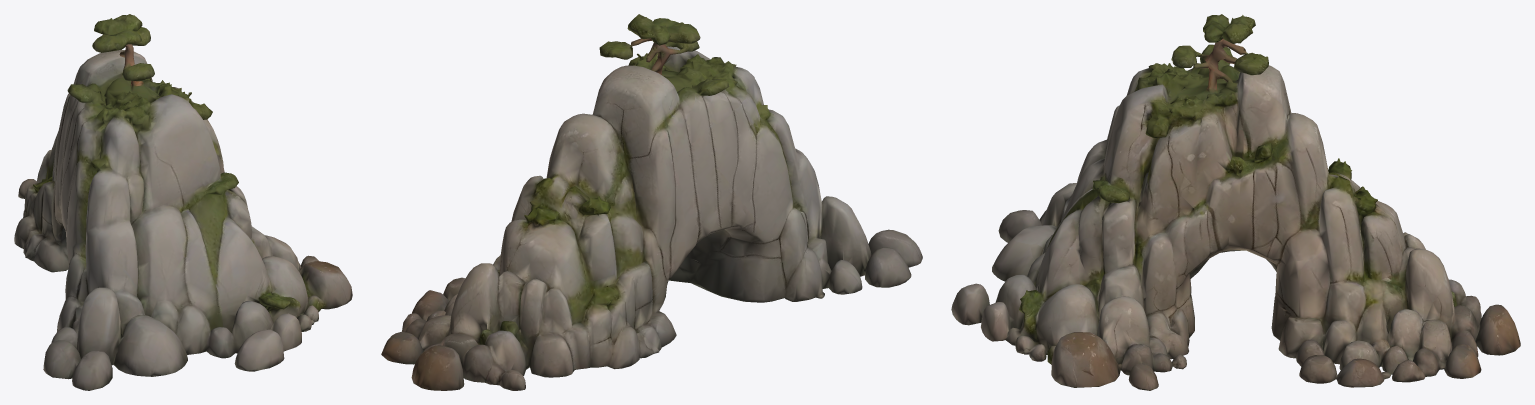
File: rock_arch.glb
3 views of the same model, side by side, from view 1: azimuth 30°, elevation 25°; view 2: azimuth 150°, elevation 25°; view 3: azimuth 270°, elevation 25° (orthographic). The views are drawn at different scales.
Parts seen in each view (by area): view 1: tripo_node_fb052edb-2c42-41d6-8676-6d1cb31a3bf2; view 2: tripo_node_fb052edb-2c42-41d6-8676-6d1cb31a3bf2; view 3: tripo_node_fb052edb-2c42-41d6-8676-6d1cb31a3bf2.
Part boxes in pixels (left/top/right/bottom): tripo_node_fb052edb-2c42-41d6-8676-6d1cb31a3bf2: left=14, top=14, right=352, bottom=390; tripo_node_fb052edb-2c42-41d6-8676-6d1cb31a3bf2: left=381, top=14, right=922, bottom=390; tripo_node_fb052edb-2c42-41d6-8676-6d1cb31a3bf2: left=951, top=14, right=1520, bottom=390.
Size of the model in its own units: 0.7007 by 0.5542 by 0.9994.
1 material, 1 textured.
